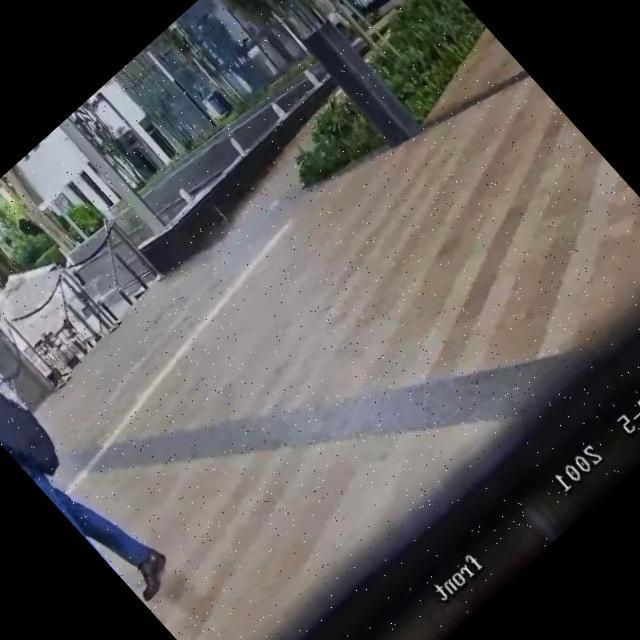person: (0, 264, 205, 631)
